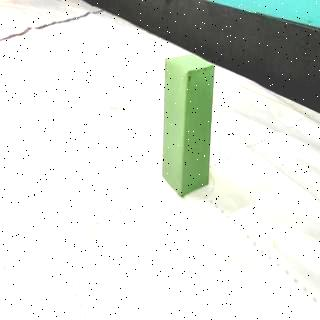greenbox: (164, 54, 216, 198)
